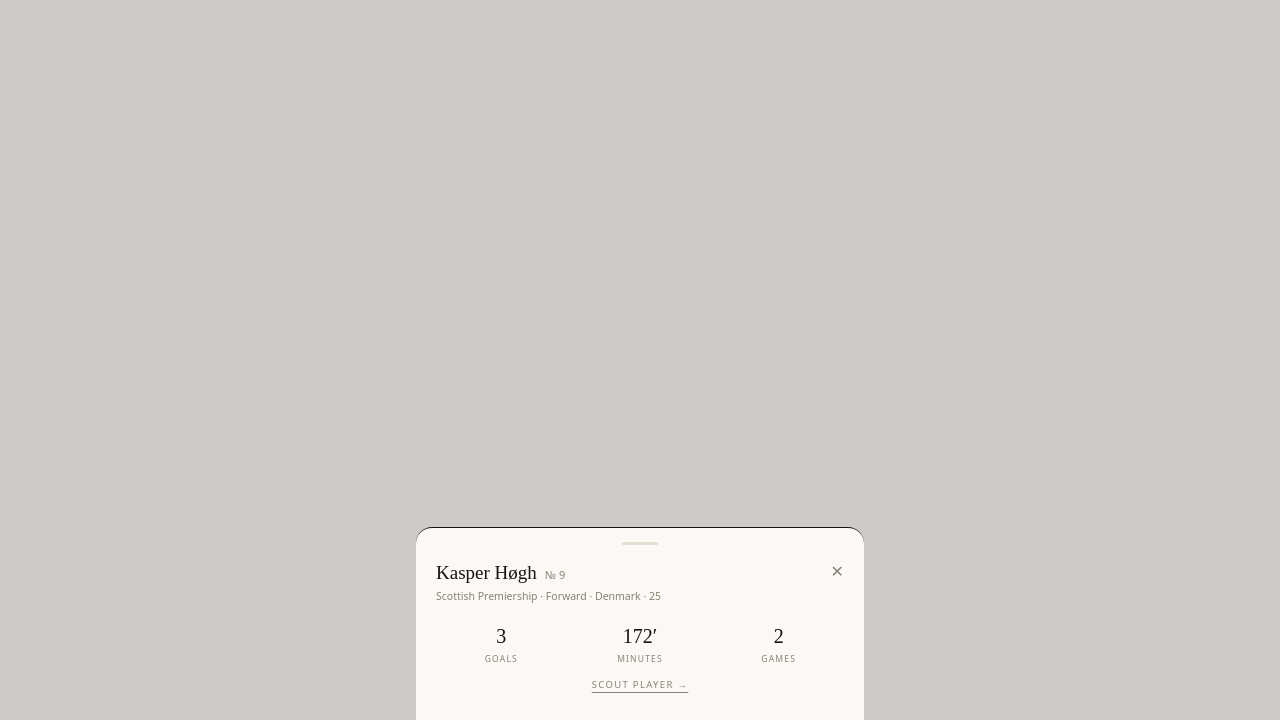
"Open as page →" hands the club forward as location state (spec §13.37)
Click the button named "Expand profile": x=640, y=543 [602,521,678,565]
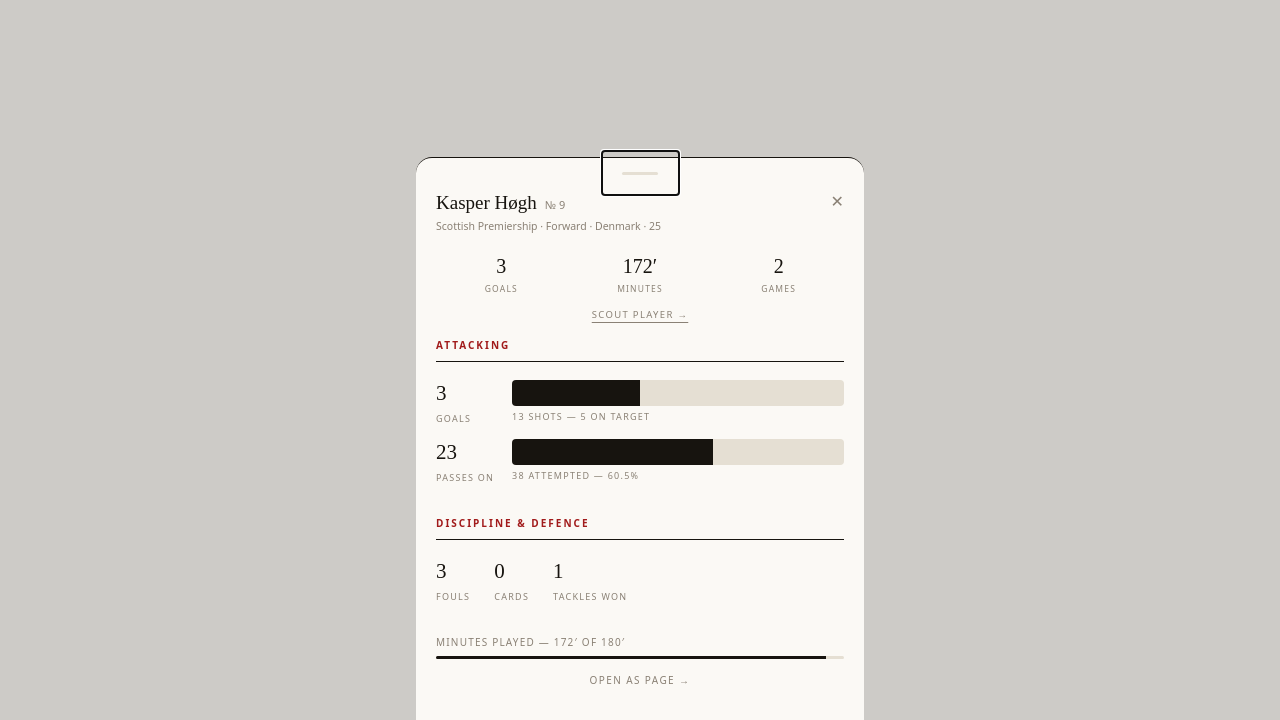
Click the link "Open as page →": x=640, y=680 [590,673,690,687]
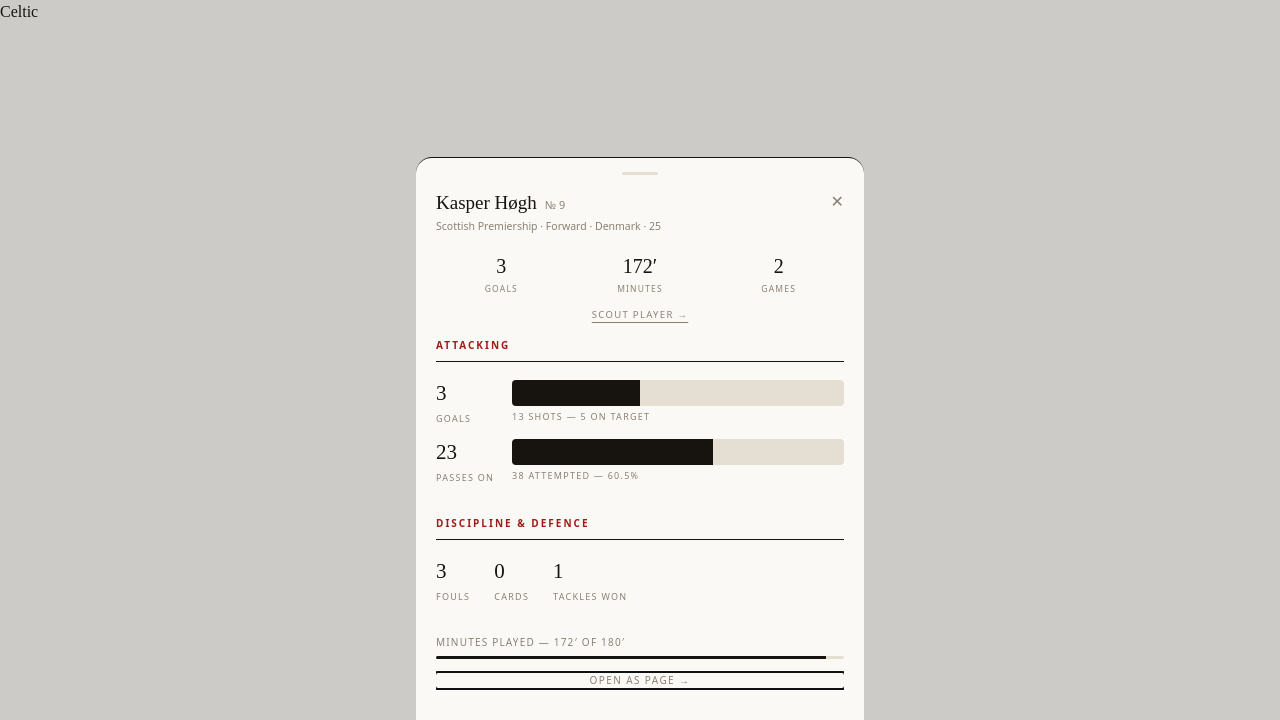
Expected: the text with test id "loc-club" reads "Celtic", [0,3,38,20]
